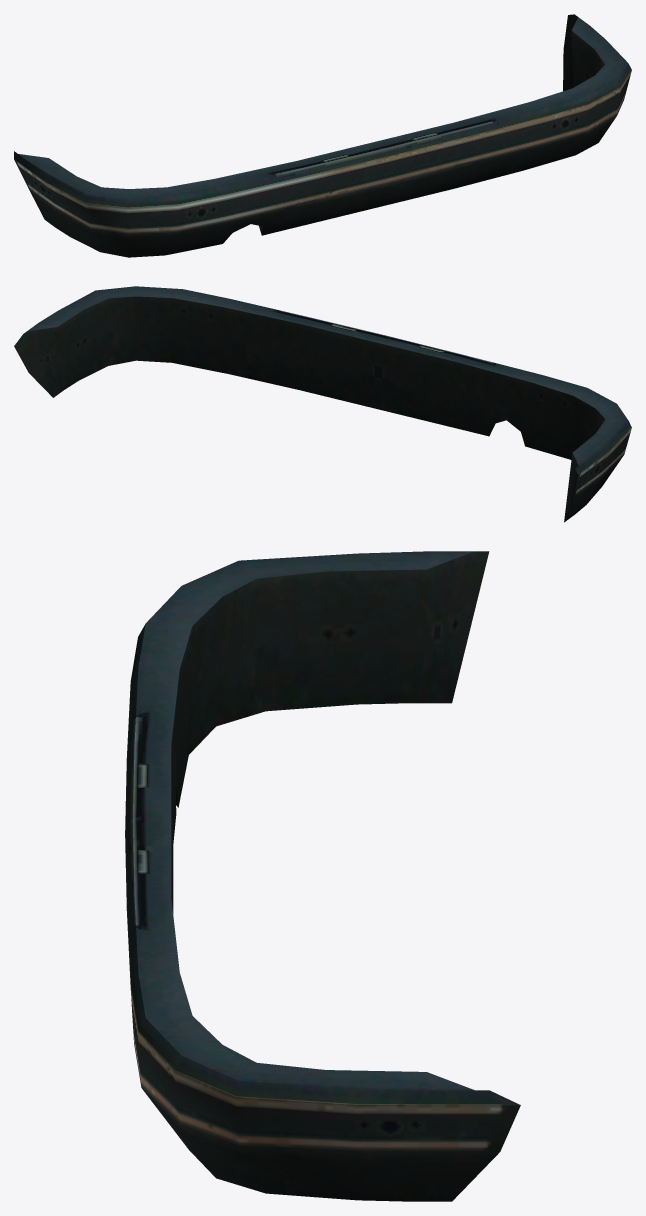
The model's file is part_4_rearbumper.fbx.
The picture shows the model from 3 angles, top to bottom: view 1: azimuth 30°, elevation 25°; view 2: azimuth 150°, elevation 25°; view 3: azimuth 270°, elevation 25°; orthographic projection. The views are drawn at different scales.
Visible parts, largest first — view 1: part_4_rearbumper.001; view 2: part_4_rearbumper.001; view 3: part_4_rearbumper.001.
Part boxes in pixels (x1=…): part_4_rearbumper.001: x1=14, y1=14, x2=631, y2=257; part_4_rearbumper.001: x1=14, y1=286, x2=631, y2=522; part_4_rearbumper.001: x1=125, y1=551, x2=520, y2=1201.
Size of the model in its own units: 150 by 17 by 46.32.
